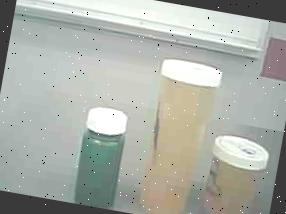Bottle A: (131, 53, 225, 214)
Bottle B: (199, 128, 275, 214)
Bottle C: (68, 102, 136, 211)
